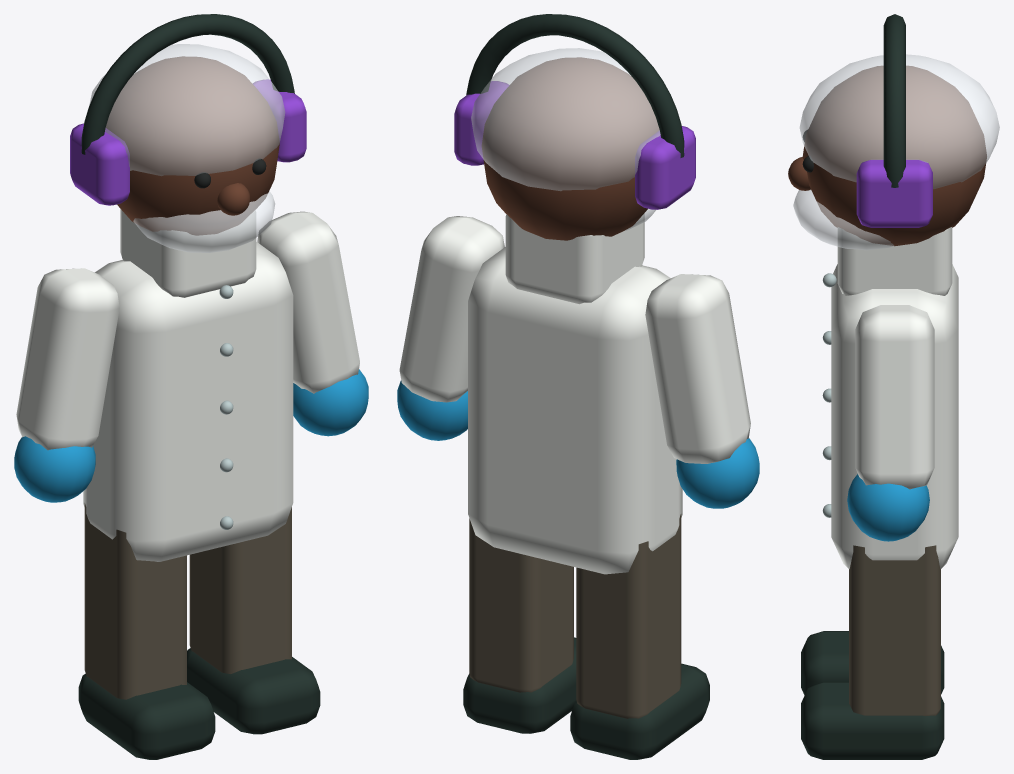
File: crew-3.glb
3 renders of one model, left to right at view 1: azimuth 30°, elevation 25°; view 2: azimuth 150°, elevation 25°; view 3: azimuth 270°, elevation 25°, orthographic. The views are drawn at different scales.
Parts seen in each view (by area): view 1: CrewMember, ArmLeft, ArmRight; view 2: CrewMember, ArmLeft, ArmRight; view 3: CrewMember, ArmRight.
Boxes of the visible parts, <box> form: CrewMember: <box>70,14,320,759</box>; ArmLeft: <box>14,268,119,502</box>; ArmRight: <box>257,211,368,436</box>; CrewMember: <box>454,14,709,759</box>; ArmLeft: <box>645,274,759,508</box>; ArmRight: <box>397,216,504,440</box>; CrewMember: <box>788,14,999,759</box>; ArmRight: <box>847,305,934,541</box>.
Size of the model in its own units: 1.25 by 2.42 by 0.666.
